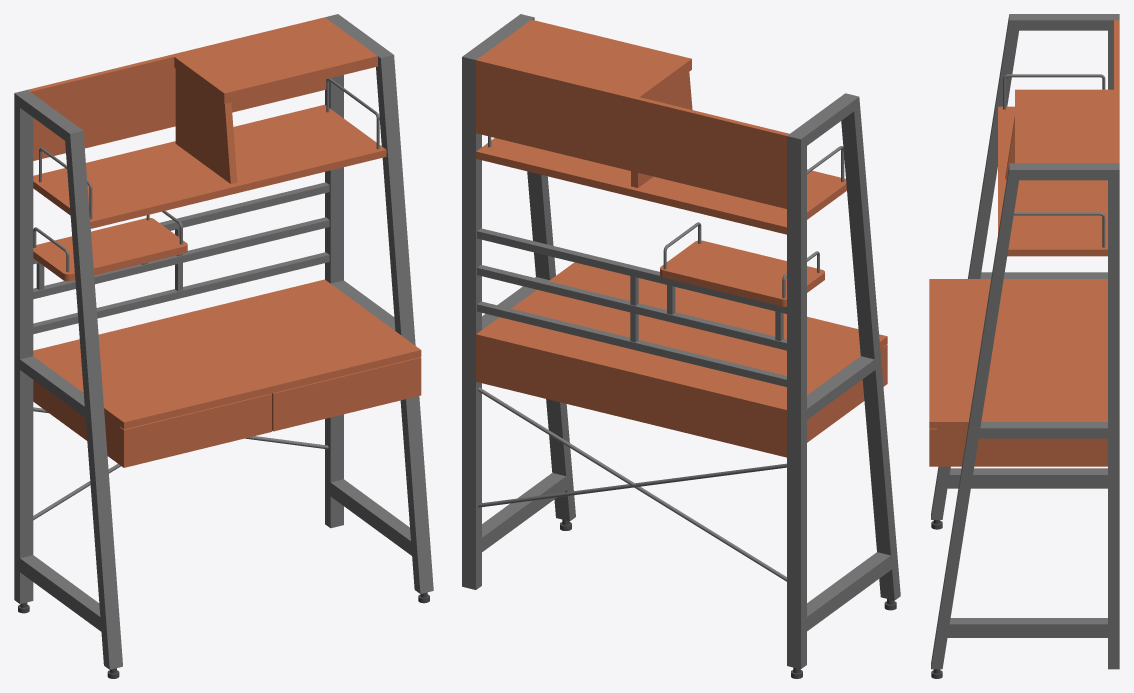
The model's file is 494_デスク.glb.
3 views of the same model, side by side, from view 1: azimuth 30°, elevation 25°; view 2: azimuth 150°, elevation 25°; view 3: azimuth 270°, elevation 25° (orthographic). The views are drawn at different scales.
Visible parts, largest first — view 1: body, hikidashi_hidari, hikidashi_migi; view 2: body; view 3: body, hikidashi_migi.
Boxes of the visible parts, left/top/right/bottom form: body: left=14, top=14, right=433, bottom=678; hikidashi_hidari: left=120, top=393, right=271, bottom=467; hikidashi_migi: left=271, top=357, right=421, bottom=431; body: left=462, top=14, right=900, bottom=678; body: left=929, top=14, right=1119, bottom=678; hikidashi_migi: left=929, top=428, right=936, bottom=466.
Bounding box in the file's own units: 0.97 × 1.48 × 0.5.
